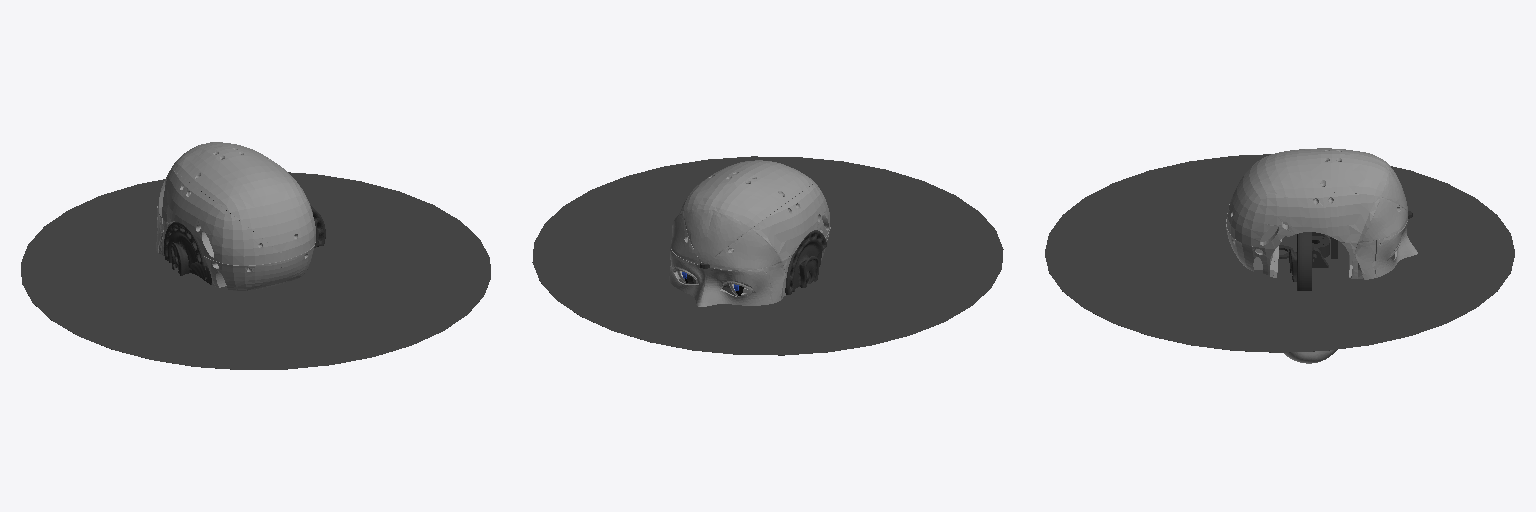
robot.urdf — inmoov_hand:
<?xml version="1.0" ?>
<!-- =================================================================================== -->
<!-- |    This document was autogenerated by xacro from inmoov_head.urdf.xacro         | -->
<!-- |    EDITING THIS FILE BY HAND IS NOT RECOMMENDED                                 | -->
<!-- =================================================================================== -->
<robot name="inmoov_hand" xmlns:xacro="http://ros.org/wiki/xacro">
  <link name="base_link">
    <visual>
      <geometry>
        <cylinder length="0.0001" radius="0.26"/>
      </geometry>
      <origin rpy="0 0 0" xyz="0 0 0.055"/>
      <material name="invisible">
        <color rgba="0.3 0.3 0.3 0"/>
      </material>
    </visual>
  </link>
  <link name="head_base">
    <visual>
      <geometry>
        <mesh filename="package://inmoov_description/meshes/head_base.stl" scale="0.001 0.001 0.001"/>
      </geometry>
      <origin rpy="0 0 0" xyz="0 0 0"/>
      <material name="cframe">
        <color rgba="0.25 0.25 0.25 1"/>
      </material>
    </visual>
  </link>
  <link name="head">
    <visual>
      <geometry>
        <mesh filename="package://inmoov_description/meshes/head.stl" scale="0.001 0.001 0.001"/>
      </geometry>
      <origin rpy="0 0 0" xyz="0 0 0"/>
      <material name="cframe">
        <color rgba="0.25 0.25 0.25 1"/>
      </material>
    </visual>
  </link>
  <link name="jaw">
    <visual>
      <geometry>
        <mesh filename="package://inmoov_description/meshes/jaw.stl" scale="0.001 0.001 0.001"/>
      </geometry>
      <origin rpy="0 0 3.1415" xyz="0 0 0"/>
      <material name="ccover">
        <color rgba="0.6 0.6 0.6 1"/>
      </material>
    </visual>
  </link>
  <link name="skull">
    <visual>
      <geometry>
        <mesh filename="package://inmoov_description/meshes/skull.stl" scale="0.001 0.001 0.001"/>
      </geometry>
      <origin rpy="0 0 0" xyz="0.001 0 0"/>
      <material name="ccover">
        <color rgba="0.6 0.6 0.6 1"/>
      </material>
    </visual>
  </link>
  <link name="left_ear">
    <visual>
      <geometry>
        <mesh filename="package://inmoov_description/meshes/earleftv1.stl" scale="0.001 0.001 0.001"/>
      </geometry>
      <origin rpy="0 0 0" xyz="0 0 0"/>
      <material name="cframe">
        <color rgba="0.25 0.25 0.25 1"/>
      </material>
    </visual>
  </link>
  <link name="right_ear">
    <visual>
      <geometry>
        <mesh filename="package://inmoov_description/meshes/earrightv1.stl" scale="0.001 0.001 0.001"/>
      </geometry>
      <origin rpy="0 0 0" xyz="0 0 0"/>
      <material name="cframe">
        <color rgba="0.25 0.25 0.25 1"/>
      </material>
    </visual>
  </link>
  <joint name="head_leftright" type="revolute">
    <axis xyz="0 0 1"/>
    <limit effort="1000.0" lower="-1.57" upper="1.57" velocity="0.5"/>
    <origin rpy="0 0 0" xyz="0 0 0.0245"/>
    <parent link="head_base"/>
    <child link="head"/>
  </joint>
  <joint name="jaw" type="revolute">
    <axis xyz="1 0 0"/>
    <limit effort="1000.0" lower="0" upper="0.15" velocity="0.5"/>
    <origin rpy="0.085 0 3.1415" xyz="-0.001 0.0375 0.0437"/>
    <parent link="head"/>
    <child link="jaw"/>
  </joint>
  <joint name="skull" type="fixed">
    <origin rpy="0 0 0" xyz="-0.001 0.044 -0.0245"/>
    <parent link="head"/>
    <child link="skull"/>
  </joint>
  <joint name="left_ear" type="fixed">
    <origin rpy="0 0 0" xyz="-0.056 0.035 0.0437"/>
    <parent link="head"/>
    <child link="left_ear"/>
  </joint>
  <joint name="right_ear" type="fixed">
    <origin rpy="0 0 0" xyz="0.056 0.035 0.0437"/>
    <parent link="head"/>
    <child link="right_ear"/>
  </joint>
  <link name="face">
    <visual>
      <geometry>
        <mesh filename="package://inmoov_description/meshes/face.stl" scale="0.001 0.001 0.001"/>
      </geometry>
      <origin rpy="0 0 0" xyz="0 0 0"/>
      <material name="ccover">
        <color rgba="0.6 0.6 0.6 1"/>
      </material>
    </visual>
  </link>
  <joint name="eyes_updown" type="revolute">
    <axis xyz="1 0 0"/>
    <limit effort="1000.0" lower="-0.45" upper="0.45" velocity="0.5"/>
    <origin rpy="0 0 0" xyz="0 0 0"/>
    <parent link="face"/>
    <child link="eyesupport"/>
  </joint>
  <link name="eyesupport">
    <visual>
      <geometry>
        <mesh filename="package://inmoov_description/meshes/eyesupport.stl" scale="0.001 0.001 0.001"/>
      </geometry>
      <origin rpy="0 0 0" xyz="0 0 0"/>
      <material name="cframe">
        <color rgba="0.25 0.25 0.25 1"/>
      </material>
    </visual>
  </link>
  <link name="right_eyesupport">
    <visual>
      <geometry>
        <mesh filename="package://inmoov_description/meshes/right_eyesupport.stl" scale="0.001 0.001 0.001"/>
      </geometry>
      <origin rpy="0 0 0" xyz="0 0 0"/>
      <material name="cframe">
        <color rgba="0.25 0.25 0.25 1"/>
      </material>
    </visual>
  </link>
  <link name="right_camera">
    <visual>
      <geometry>
        <mesh filename="package://inmoov_description/meshes/camera.stl" scale="0.001 0.001 0.001"/>
      </geometry>
      <origin rpy="0 0 0" xyz="0 0 0"/>
      <material name="ccamera">
        <color rgba="0.1 0.1 0.1 1"/>
      </material>
    </visual>
  </link>
  <link name="right_eye">
    <visual>
      <geometry>
        <mesh filename="package://inmoov_description/meshes/eye.stl" scale="0.001 0.001 0.001"/>
      </geometry>
      <origin rpy="0 0 0" xyz="0 0 0"/>
      <material name="ceyeball">
        <color rgba="0.7 0.7 0.7 1"/>
      </material>
    </visual>
  </link>
  <link name="right_iris">
    <visual>
      <geometry>
        <mesh filename="package://inmoov_description/meshes/iris.stl" scale="0.001 0.001 0.001"/>
      </geometry>
      <origin rpy="0 0 0" xyz="0 0 0"/>
      <material name="ciris">
        <color rgba="0.25 0.41 0.88 1"/>
      </material>
    </visual>
  </link>
  <joint name="right_camera" type="fixed">
    <origin rpy="0 0 0" xyz="0 -0.001 0"/>
    <parent link="right_eyesupport"/>
    <child link="right_camera"/>
  </joint>
  <joint name="right_eye" type="fixed">
    <origin rpy="0 0 0" xyz="0 0.003 0"/>
    <parent link="right_eyesupport"/>
    <child link="right_eye"/>
  </joint>
  <joint name="right_iris" type="fixed">
    <origin rpy="0 0 0" xyz="0 0.0061 0"/>
    <parent link="right_eyesupport"/>
    <child link="right_iris"/>
  </joint>
  <joint name="eye_leftright" type="revolute">
    <axis xyz="0 0 1"/>
    <limit effort="1000.0" lower="-0.45" upper="0.45" velocity="0.5"/>
    <origin rpy="0 0 0" xyz="0.033 0 -0.0036"/>
    <parent link="eyesupport"/>
    <child link="right_eyesupport"/>
  </joint>
  <link name="left_eyesupport">
    <visual>
      <geometry>
        <mesh filename="package://inmoov_description/meshes/left_eyesupport.stl" scale="0.001 0.001 0.001"/>
      </geometry>
      <origin rpy="0 0 0" xyz="0 0 0"/>
      <material name="cframe">
        <color rgba="0.25 0.25 0.25 1"/>
      </material>
    </visual>
  </link>
  <link name="left_camera">
    <visual>
      <geometry>
        <mesh filename="package://inmoov_description/meshes/camera.stl" scale="0.001 0.001 0.001"/>
      </geometry>
      <origin rpy="0 0 0" xyz="0 0 0"/>
      <material name="ccamera">
        <color rgba="0.1 0.1 0.1 1"/>
      </material>
    </visual>
  </link>
  <link name="left_eye">
    <visual>
      <geometry>
        <mesh filename="package://inmoov_description/meshes/eye.stl" scale="0.001 0.001 0.001"/>
      </geometry>
      <origin rpy="0 0 0" xyz="0 0 0"/>
      <material name="ceyeball">
        <color rgba="0.7 0.7 0.7 1"/>
      </material>
    </visual>
  </link>
  <link name="left_iris">
    <visual>
      <geometry>
        <mesh filename="package://inmoov_description/meshes/iris.stl" scale="0.001 0.001 0.001"/>
      </geometry>
      <origin rpy="0 0 0" xyz="0 0 0"/>
      <material name="ciris">
        <color rgba="0.25 0.41 0.88 1"/>
      </material>
    </visual>
  </link>
  <joint name="left_camera" type="fixed">
    <origin rpy="0 0 0" xyz="0 -0.001 0"/>
    <parent link="left_eyesupport"/>
    <child link="left_camera"/>
  </joint>
  <joint name="left_eye" type="fixed">
    <origin rpy="0 0 0" xyz="0 0.003 0"/>
    <parent link="left_eyesupport"/>
    <child link="left_eye"/>
  </joint>
  <joint name="left_iris" type="fixed">
    <origin rpy="0 0 0" xyz="0 0.0061 0"/>
    <parent link="left_eyesupport"/>
    <child link="left_iris"/>
  </joint>
  <joint name="left_eye_leftright" type="revolute">
    <axis xyz="0 0 1"/>
    <limit effort="1000.0" lower="-0.45" upper="0.45" velocity="0.5"/>
    <mimic joint="eye_leftright" multiplier="1" offset="0"/>
    <origin rpy="0 0 0" xyz="-0.033 0 -0.0036"/>
    <parent link="eyesupport"/>
    <child link="left_eyesupport"/>
  </joint>
  <joint name="base_to_base" type="revolute">
    <axis xyz="0 0 1"/>
    <limit effort="1000.0" lower="-3.14" upper="0" velocity="0.5"/>
    <origin rpy="0 0 0" xyz="0 0 0"/>
    <parent link="base_link"/>
    <child link="head_base"/>
  </joint>
  <joint name="face" type="fixed">
    <origin rpy="0 0 0" xyz="0 0.0637 0.079"/>
    <parent link="skull"/>
    <child link="face"/>
  </joint>
</robot>

--- Render facts (derived) ---
3 views of the same robot in one strip: view 1: azimuth 30°, elevation 25°; view 2: azimuth 150°, elevation 25°; view 3: azimuth 270°, elevation 25° (orthographic).
Robot: inmoov_hand — 17 links, 16 joints (6 revolute, 10 fixed); root link base_link; default pose: every joint at zero.
Visible links, largest first — view 1: base_link, skull, left_ear; view 2: base_link, skull, face, left_ear; view 3: base_link, skull, face, right_ear, head, jaw.
Boxes of the visible links, x1,y1,x2,y2 form: base_link: (21, 172, 490, 369); skull: (156, 142, 315, 290); left_ear: (164, 222, 211, 284); base_link: (532, 156, 1003, 355); skull: (669, 160, 830, 303); face: (669, 247, 770, 306); left_ear: (785, 230, 826, 294); base_link: (1045, 154, 1514, 352); skull: (1226, 148, 1407, 279); face: (1375, 219, 1417, 277); right_ear: (1289, 232, 1311, 290); head: (1279, 232, 1337, 267); jaw: (1270, 246, 1352, 363).
Size in the robot's own frame: 0.52 by 0.52 by 0.2108 metres.
16 mesh visuals loaded from 13 distinct referenced files (13 binary STL).